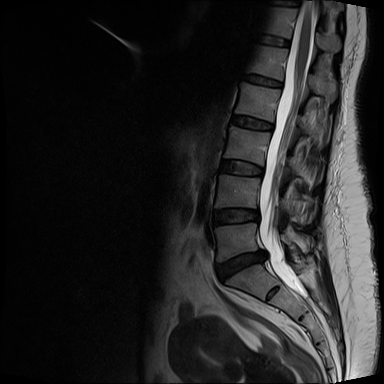Lumbar Disc Bulge (LDB): (211, 242, 273, 289), (207, 203, 268, 233)
Normal IVD: (212, 152, 269, 182), (224, 110, 279, 137), (237, 69, 286, 93)
Spinal Stenosis (SS): (247, 202, 266, 229), (256, 246, 274, 270)
